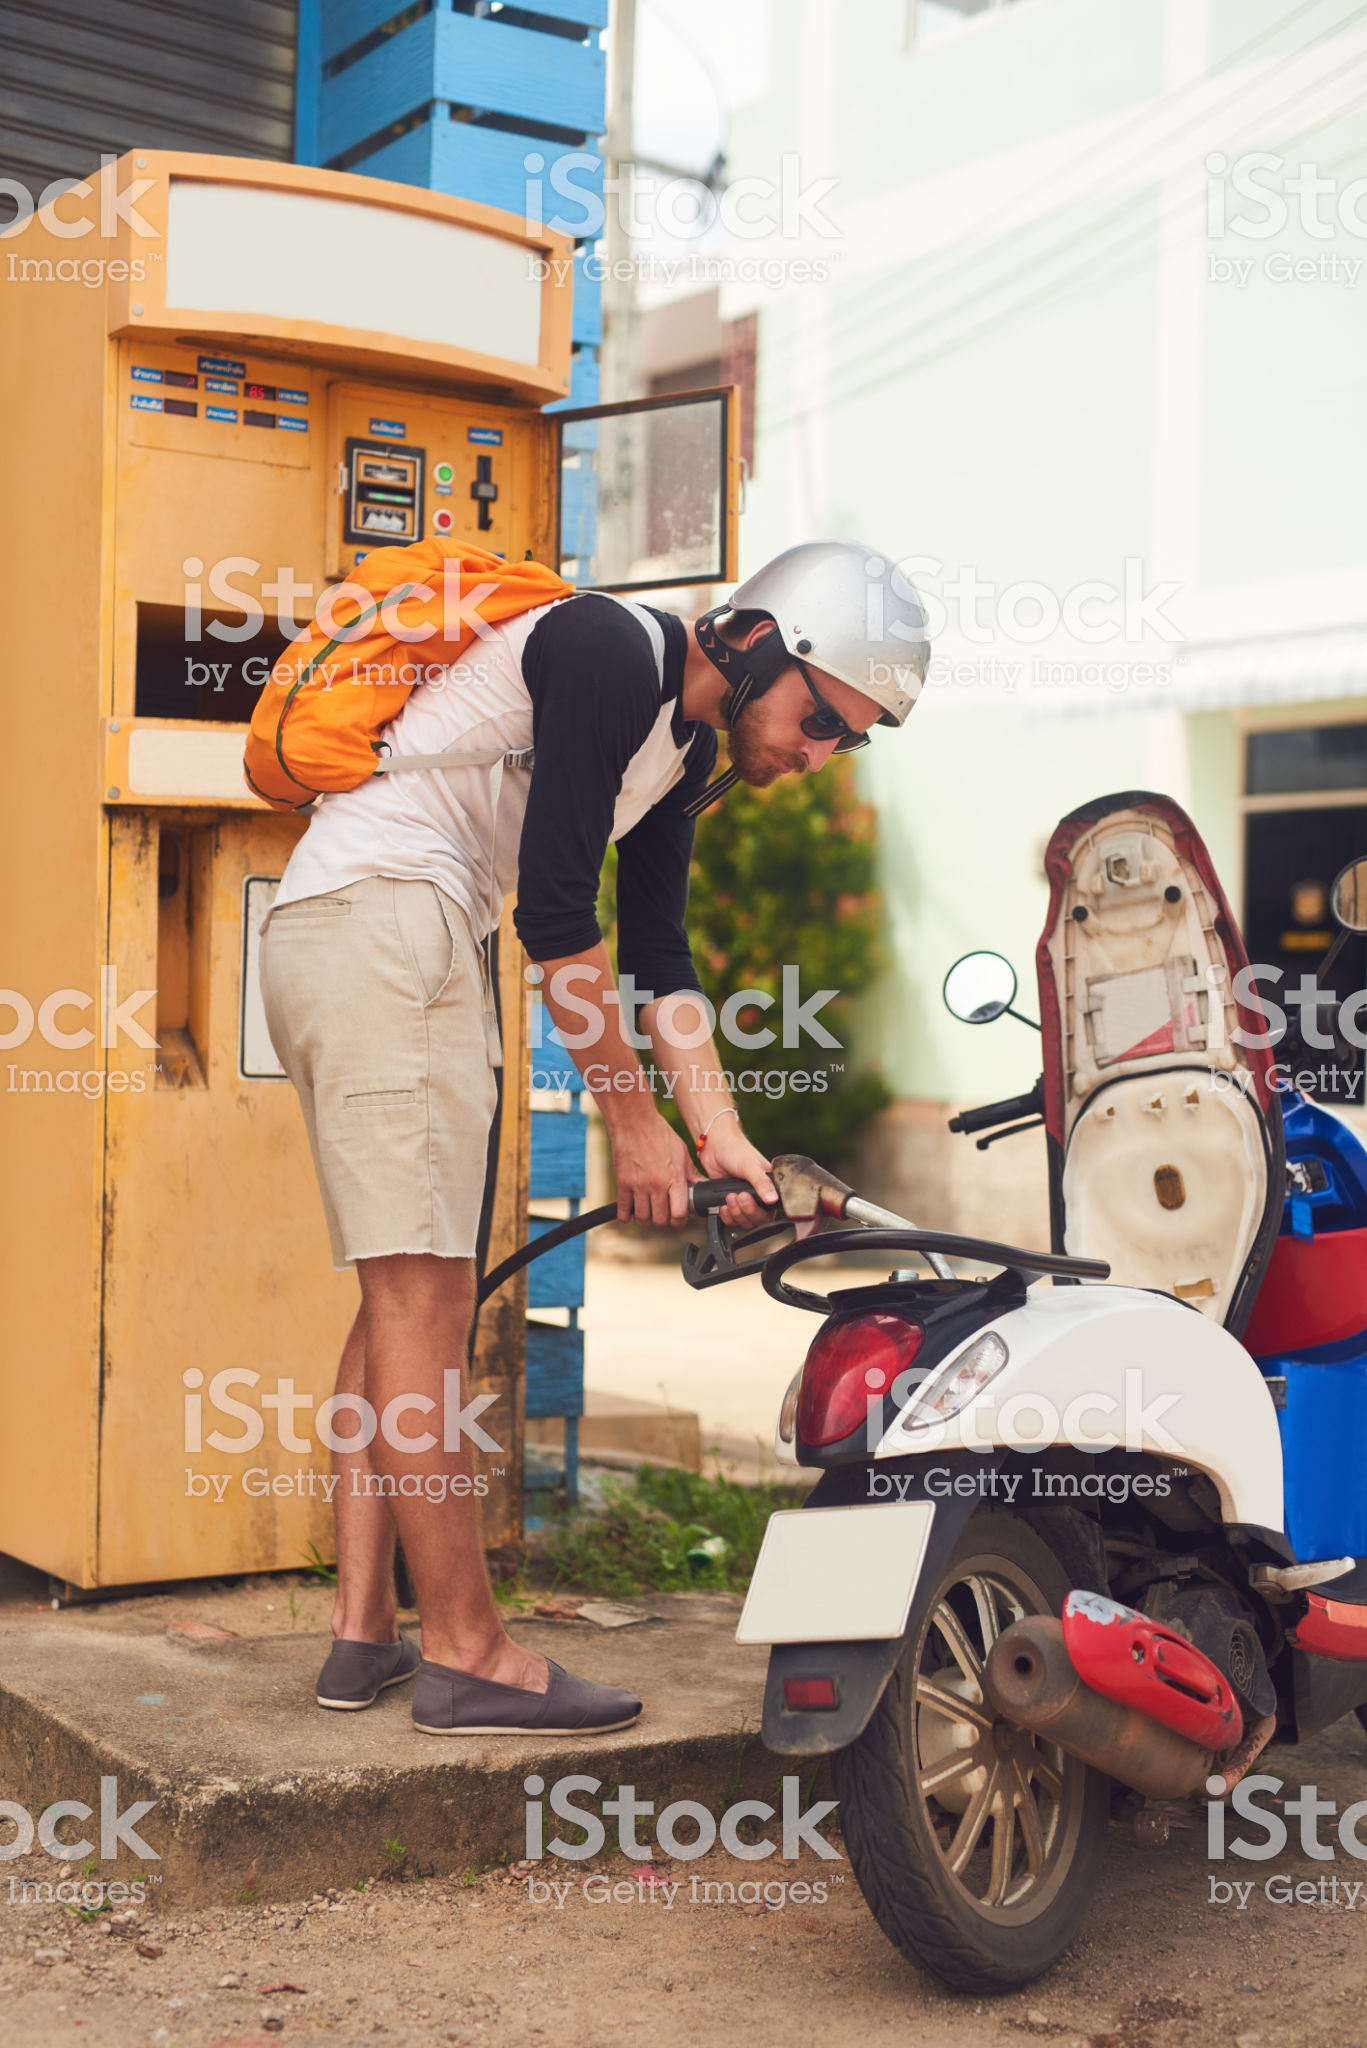helmet: (761, 518, 993, 718)
